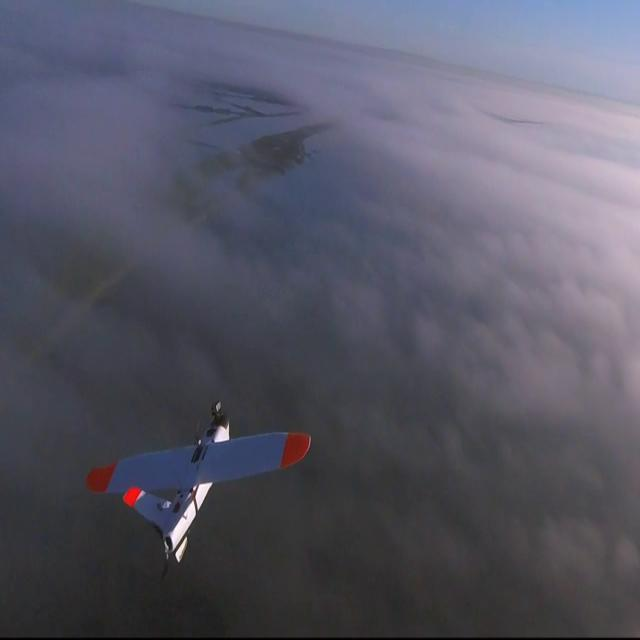iha: (80, 401, 308, 569)
